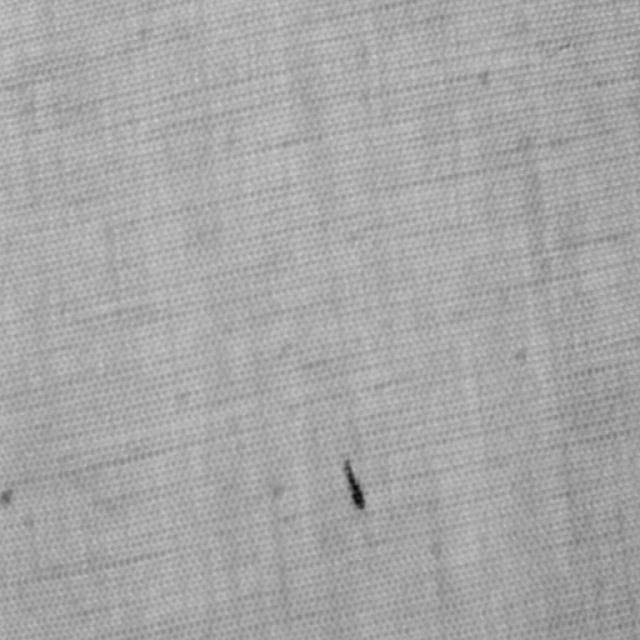oil spot: (339, 452, 367, 512)
